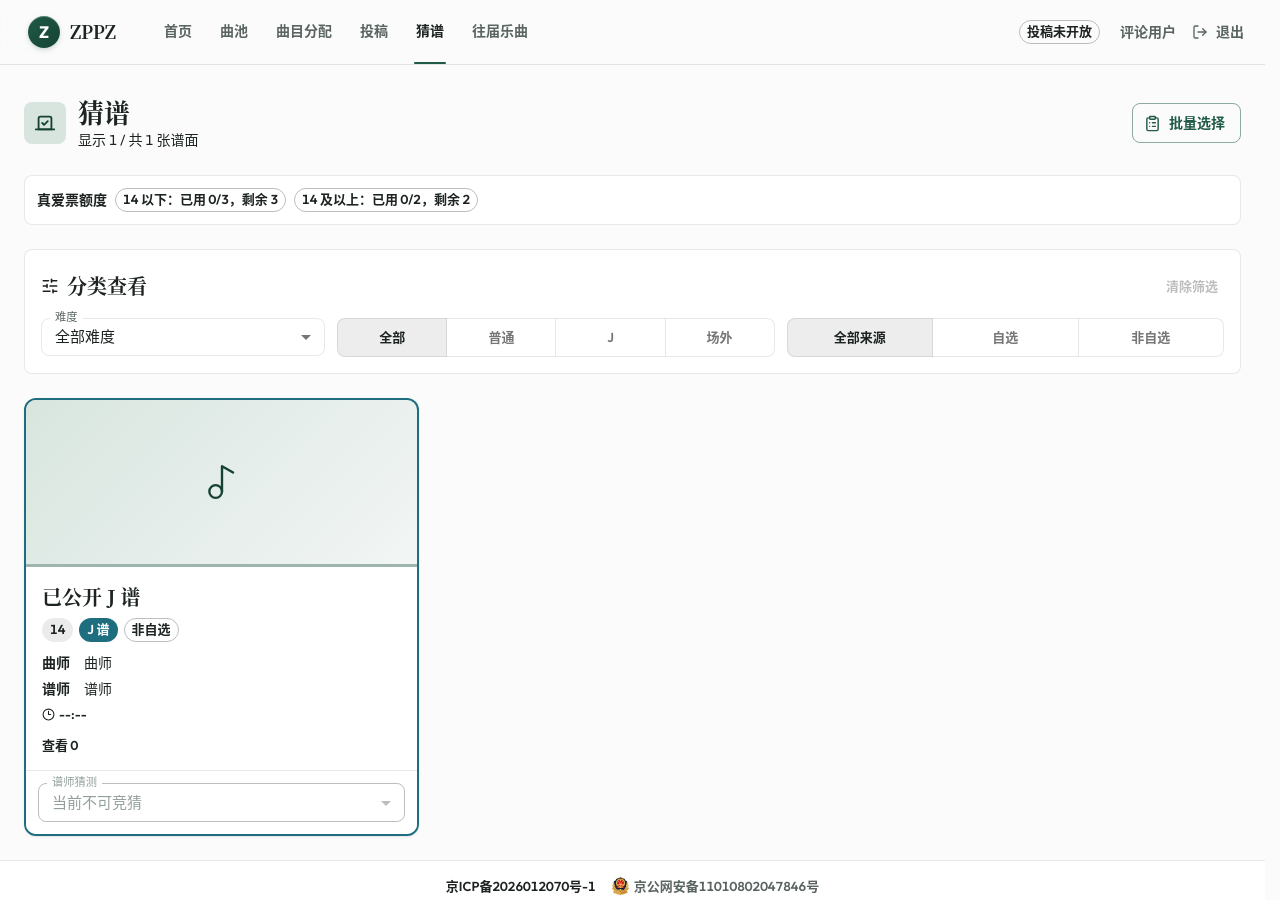
Material application shell › allows comments on a public chart outside the voting phase
Click the heading "已公开 J 谱" at {"x": 91, "y": 596}, box [42, 582, 141, 611]
(page scrolled)
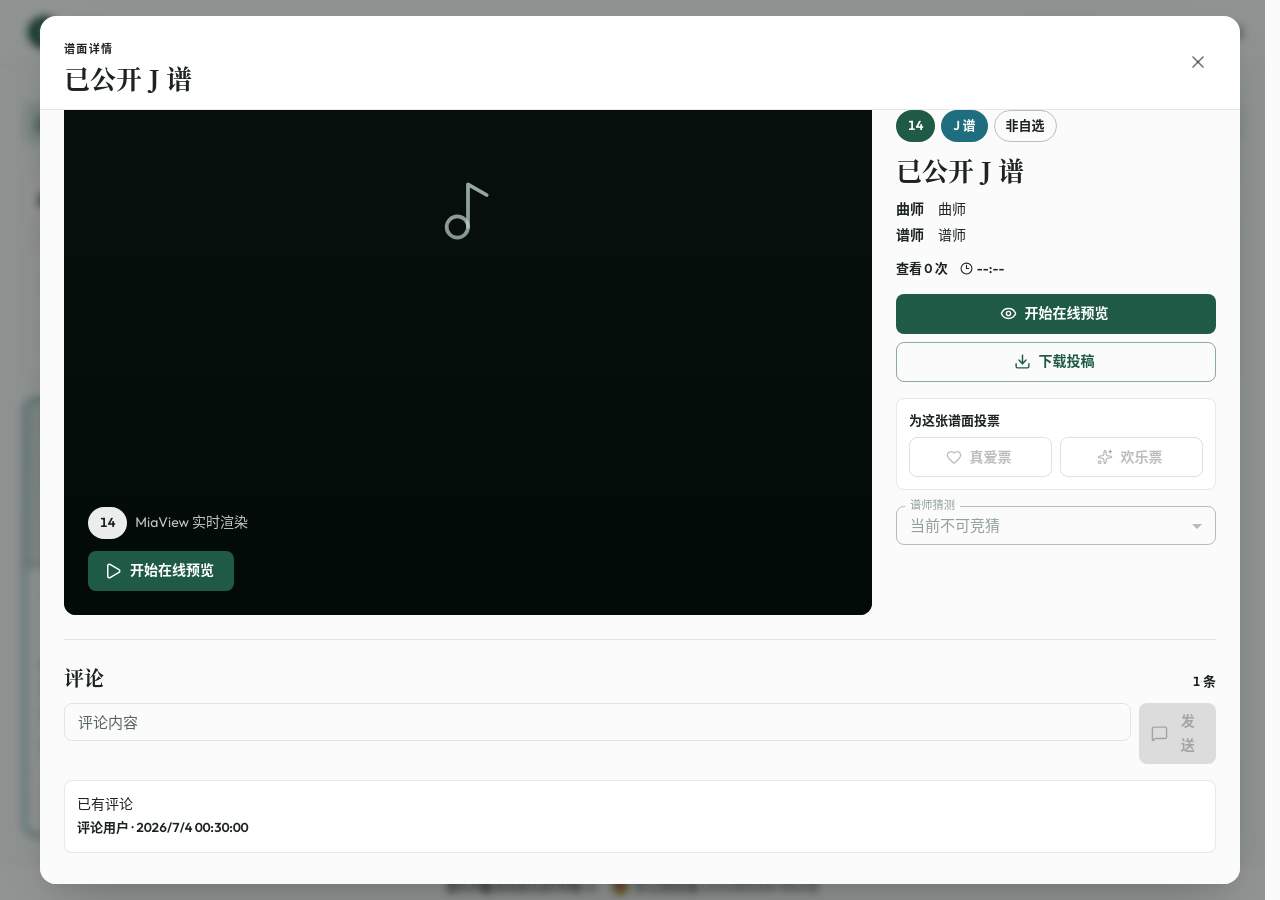
Check: the text "已有评论" is shown, box [77, 794, 133, 812]
Type "现在就能评论" into the field labelled "评论内容" at {"x": 597, "y": 722}, box [64, 702, 1131, 741]
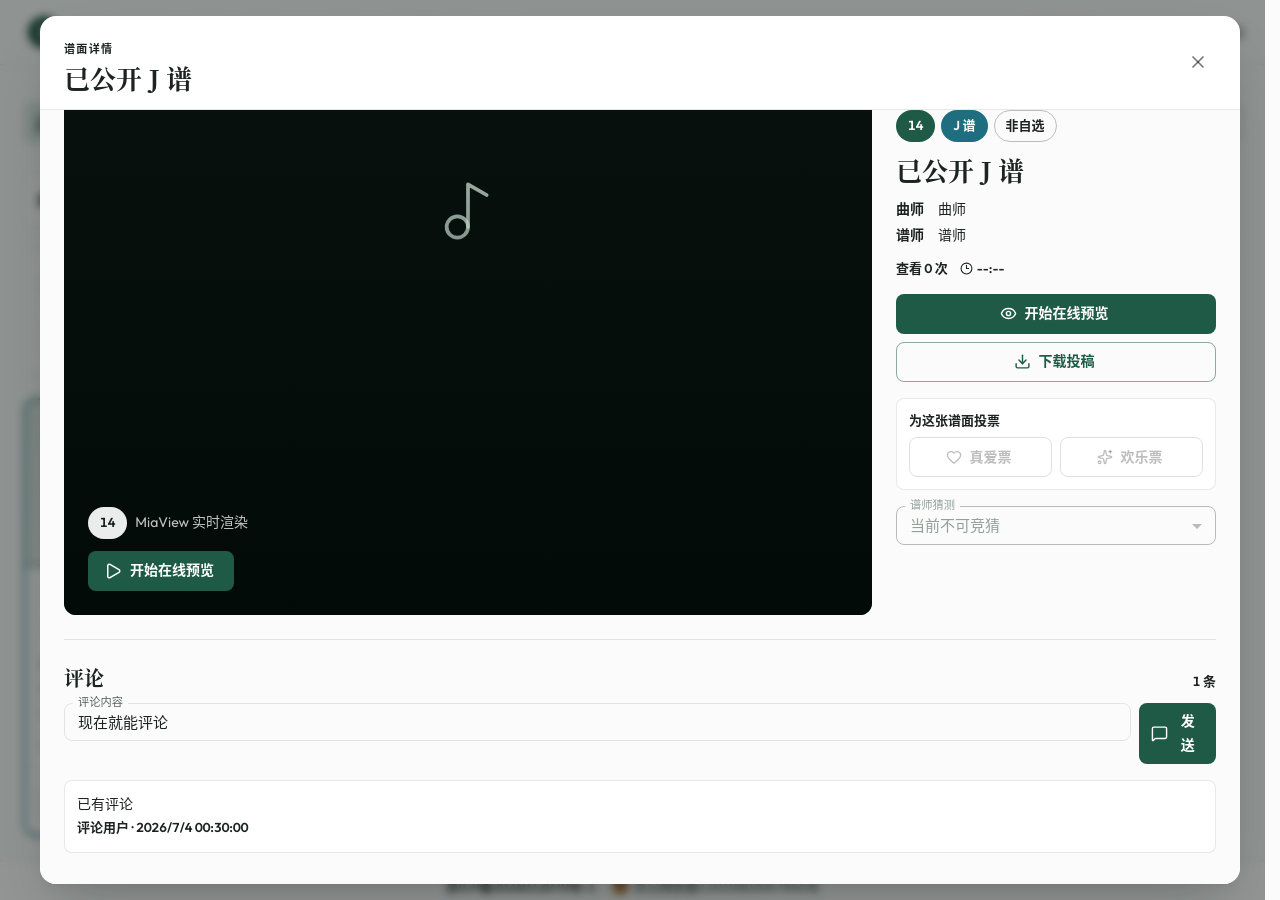
Click the button "发送" at {"x": 1177, "y": 733}, box [1139, 702, 1216, 764]
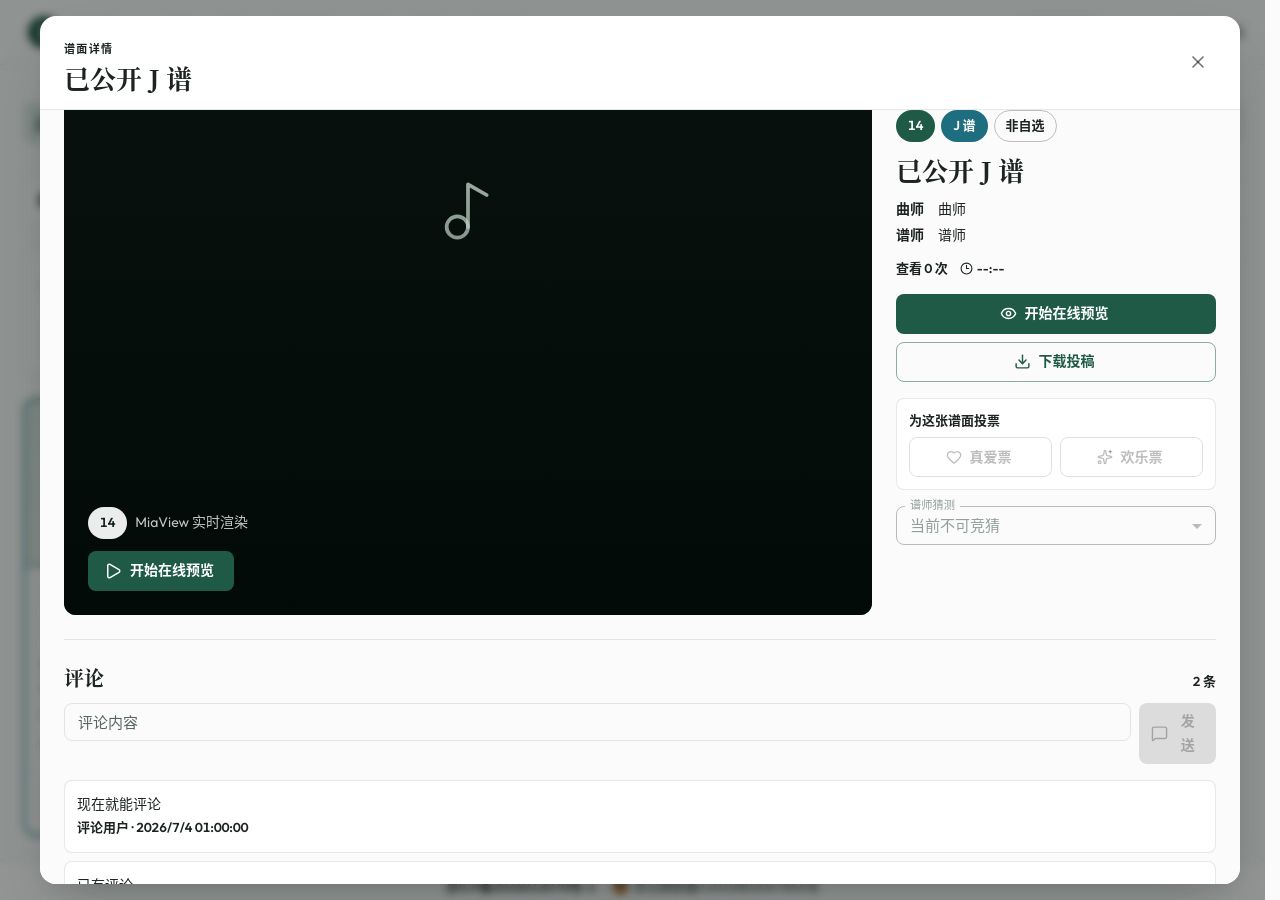
Check: the text "现在就能评论" is shown, box [77, 794, 161, 812]
